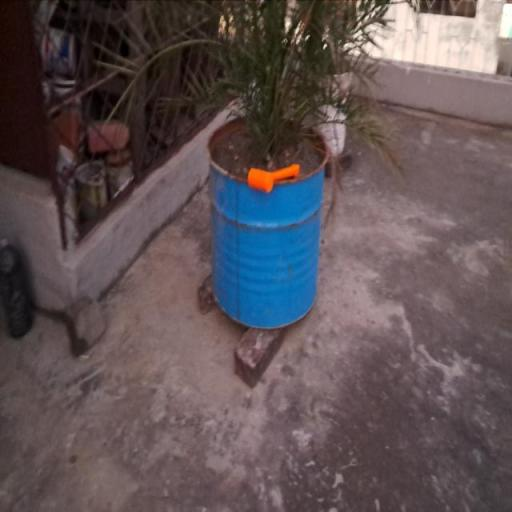mallet: (249, 162, 300, 194)
